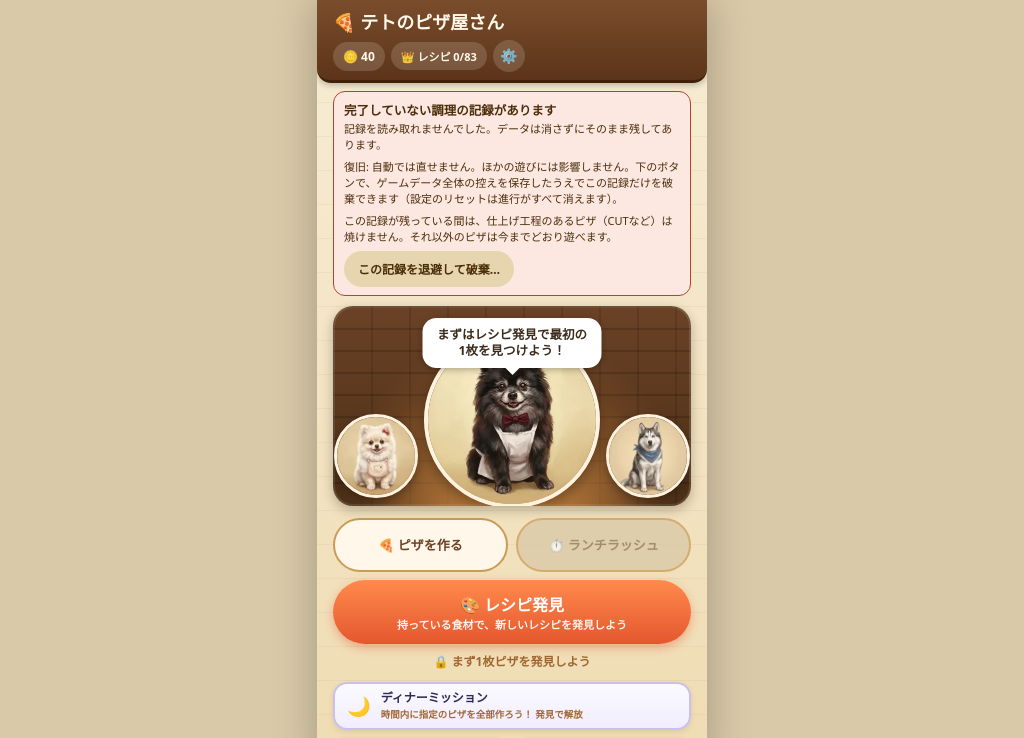
Scenario: HOME: a kept journal offers the discard › a copy that cannot be stored: the failure is shown in the dialog and nothing is removed
What coordinates should you click on to do the following:
click the button "この記録を退避して破棄…"
I would click on:
 (429, 269)
Its box is [344,251,514,287].
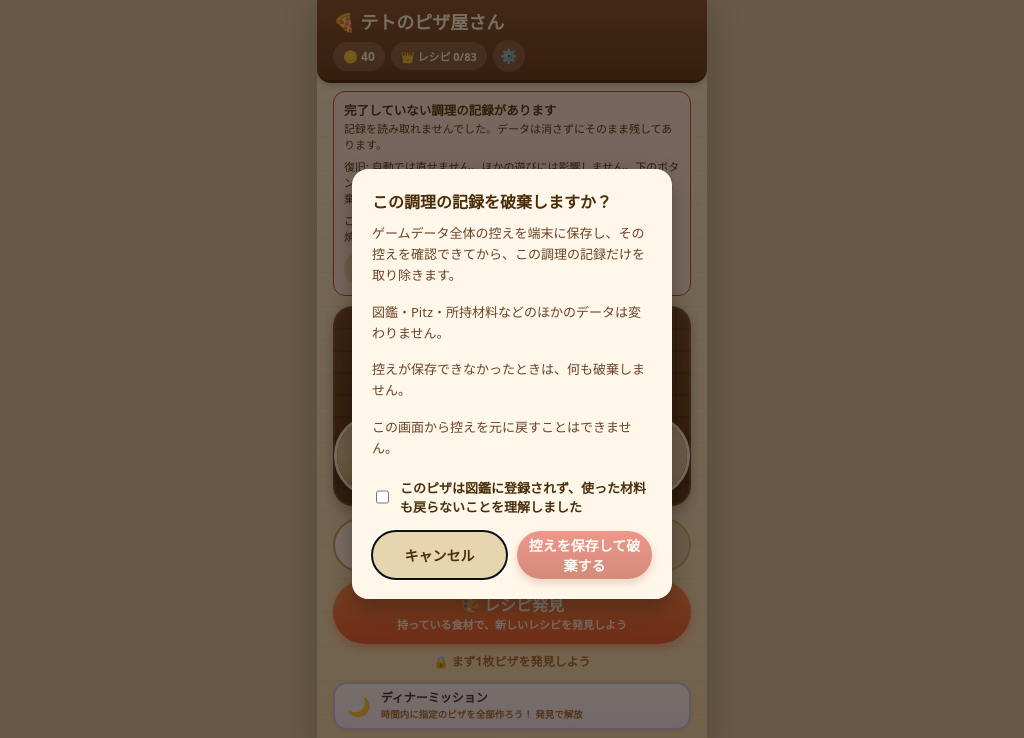
What coordinates should you click on to do the following:
click the checkbox labelled "このピザは図鑑に登録されず、使った材料も戻らないことを理解しました"
I would click on:
 (382, 497)
Its box is [376,486,389,508].
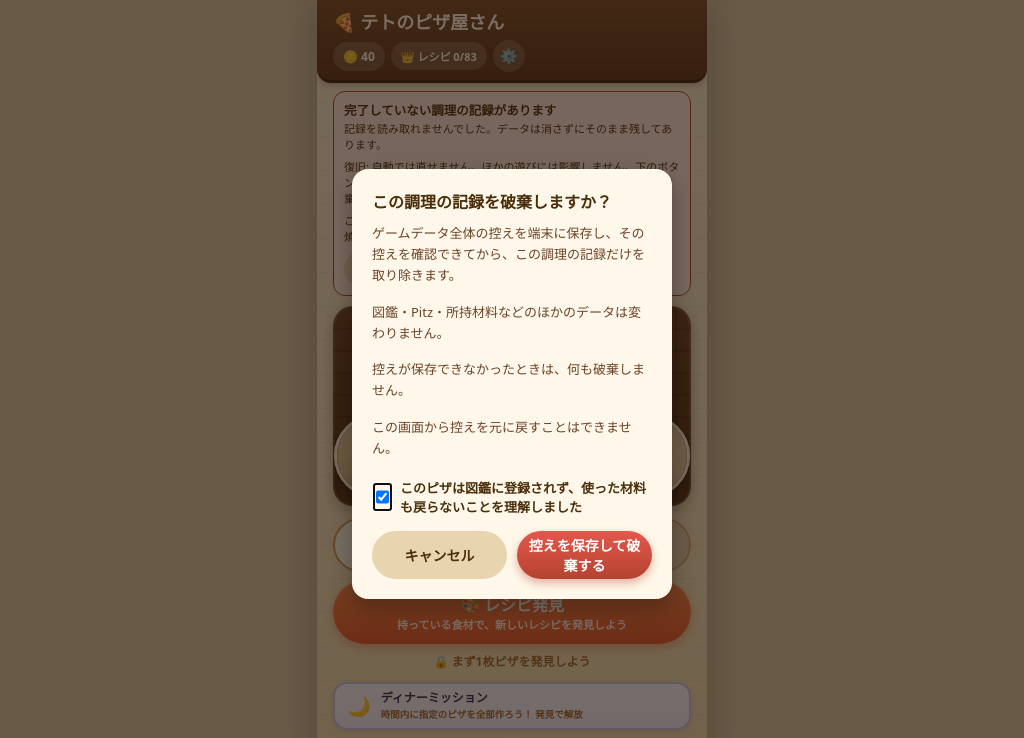
What coordinates should you click on to do the following:
click the button "控えを保存して破棄する"
I would click on:
 (584, 555)
Its box is [517,531,652,579].
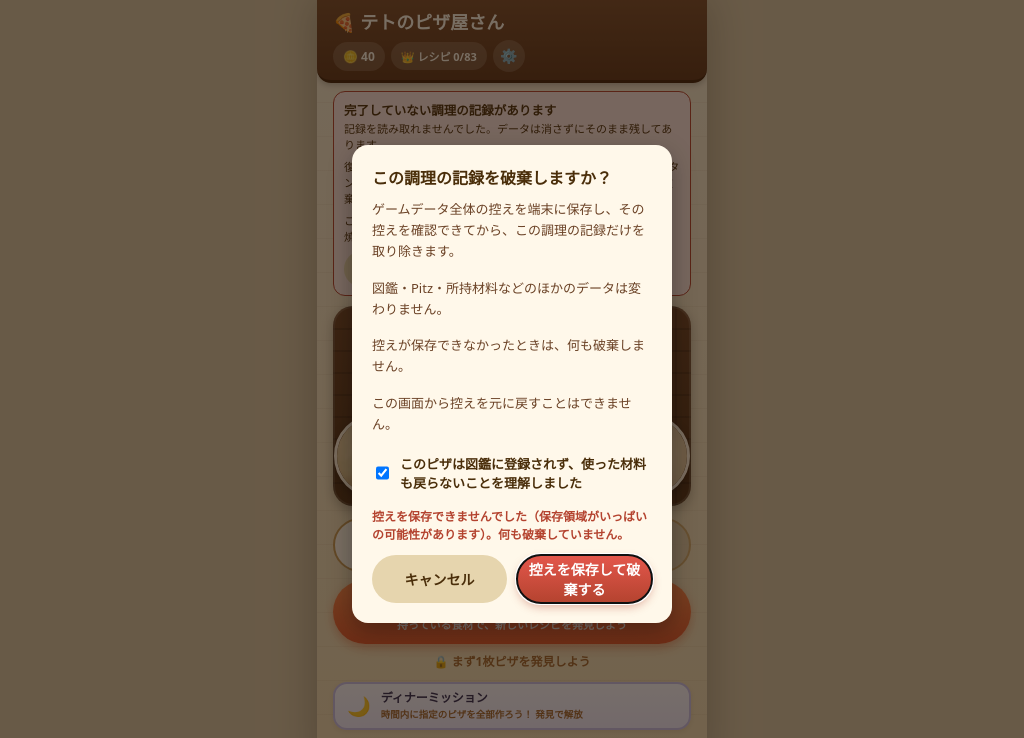
Check: the message that starts with "完了していない調理の記録があります" is shown, box [333,91,691,296]
Check: the dialog is shown, box [352,145,672,623]
Check: the message "控えを保存できませんでした（保存領域がいっぱいの可能性があります）。何も破棄していません。" is shown, box [372,507,652,543]
